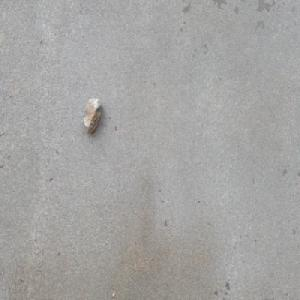Rock: (82, 96, 102, 136)
